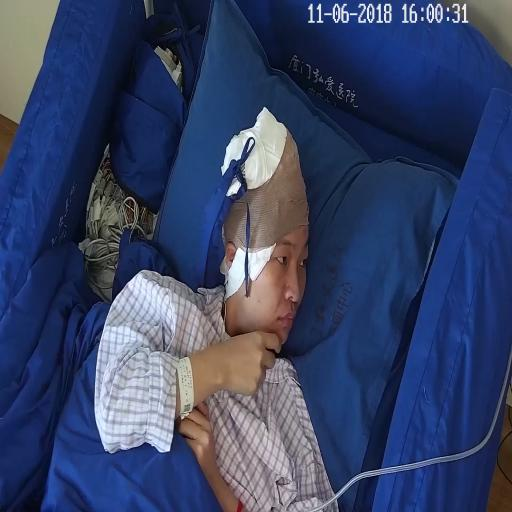Seizure: (219, 117, 313, 347)
